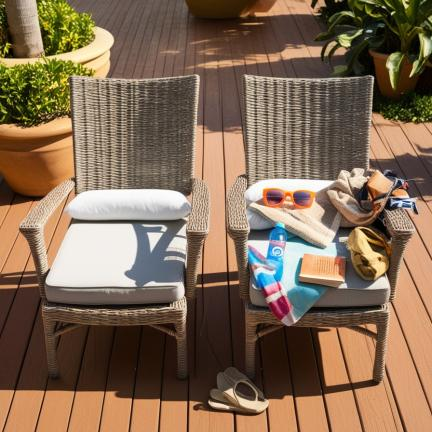empty chair: (19, 75, 209, 378)
occupied chair: (227, 75, 417, 381)
